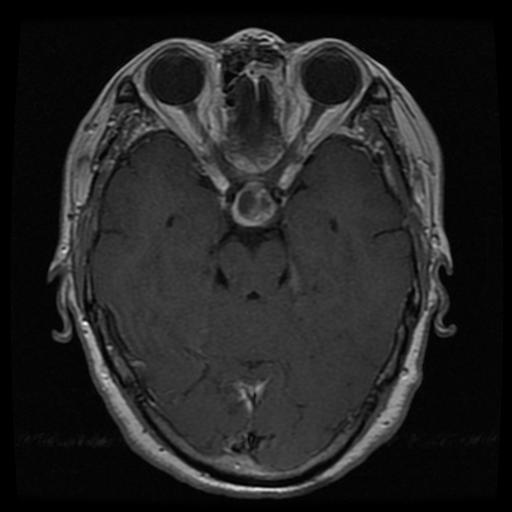Pituirity_tumour: (232, 181, 276, 227)
